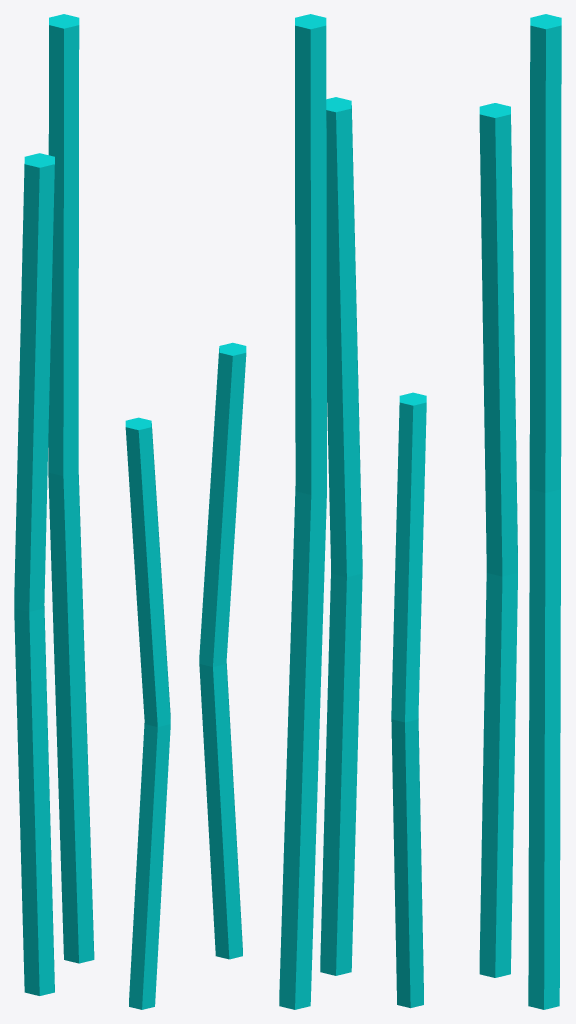
The model's file is SM_Env_Bamboo_01_Collision.fbx.
3 views of the same model, side by side, from view 1: azimuth 30°, elevation 25°; view 2: azimuth 210°, elevation 25°; view 3: azimuth 270°, elevation 25° (orthographic). The views are drawn at different scales.
Visible parts, largest first — view 1: SM_Env_Bamboo_01_Collision; view 2: SM_Env_Bamboo_01_Collision; view 3: SM_Env_Bamboo_01_Collision.
Boxes of the visible parts, x1,y1,x2,y2 form: SM_Env_Bamboo_01_Collision: [14, 14, 170, 1009]; SM_Env_Bamboo_01_Collision: [199, 14, 362, 1009]; SM_Env_Bamboo_01_Collision: [391, 14, 561, 1009].
Size of the model in its own units: 74.61 by 610 by 96.52.
